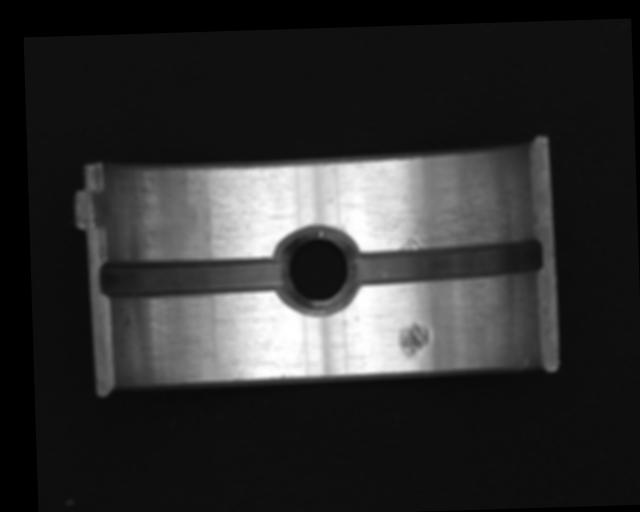bruise: (398, 321, 430, 361)
gap: (349, 236, 543, 287), (98, 256, 285, 298)
hole: (274, 223, 357, 317)
scratch: (350, 159, 519, 253)
